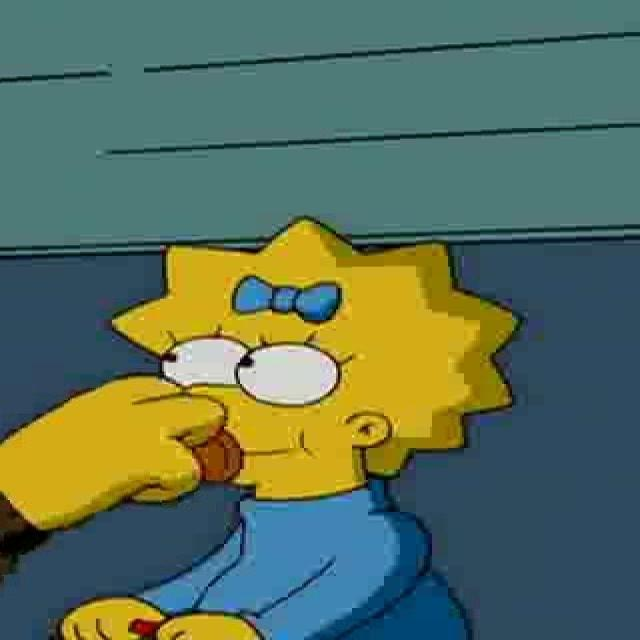Maggie Simpson: (103, 213, 525, 507)
